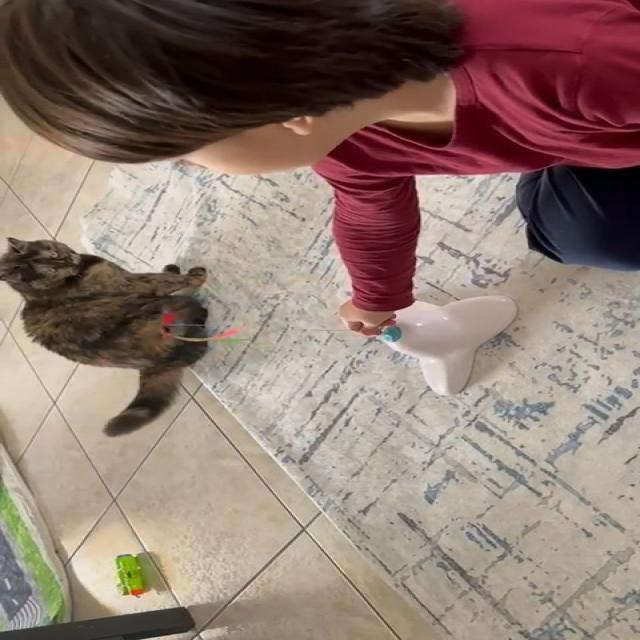authorized: (0, 236, 211, 437)
